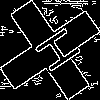H: (25, 25, 83, 81)
